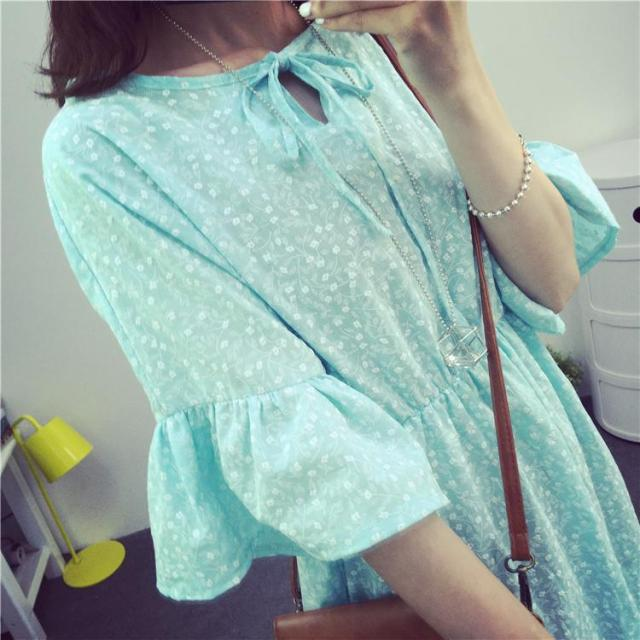short-sleeve-dress: (25, 27, 640, 639)
